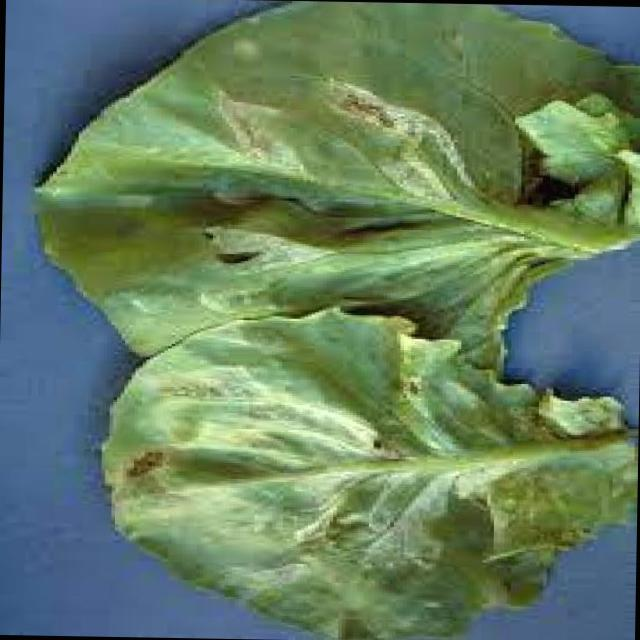Downy_mildew_on_lettuce: (172, 71, 494, 299), (153, 368, 506, 566)
